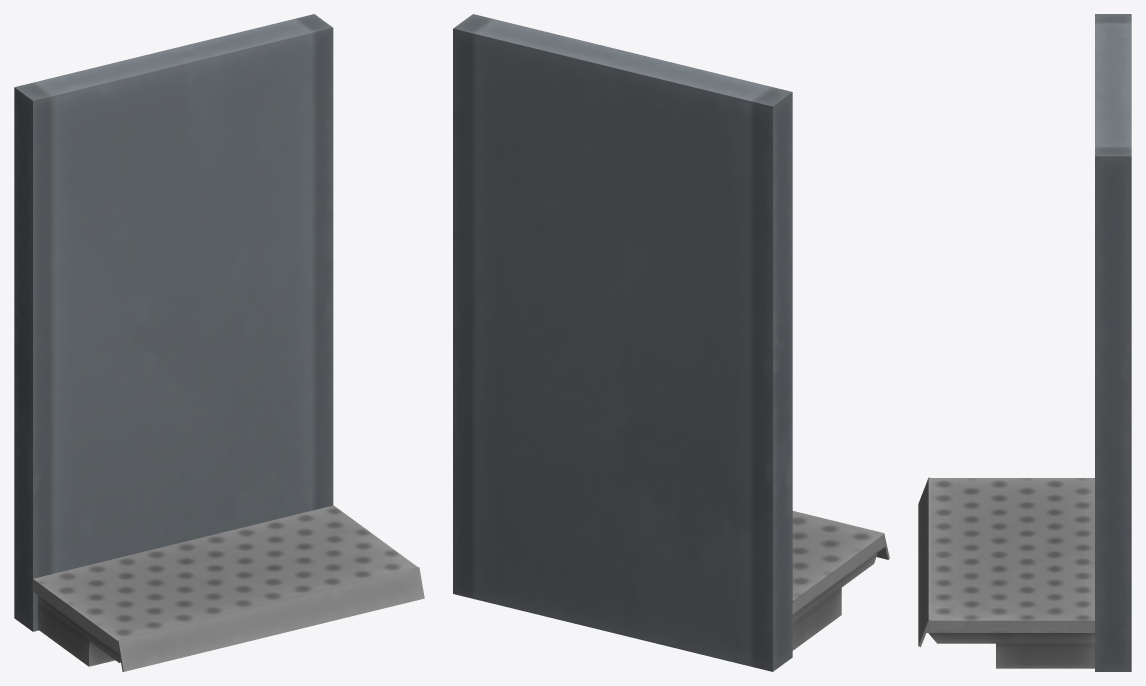
Rendered from Pfb_Shop_Shelf.fbx.
3 views of the same model, side by side, from view 1: azimuth 30°, elevation 25°; view 2: azimuth 150°, elevation 25°; view 3: azimuth 270°, elevation 25° (orthographic). The views are drawn at different scales.
Visible parts, largest first — view 1: Mat_Shop_Shelf_01_1; view 2: Mat_Shop_Shelf_01_1; view 3: Mat_Shop_Shelf_01_1.
Part boxes in pixels (<box>): Mat_Shop_Shelf_01_1: <box>14,14,424,671</box>; Mat_Shop_Shelf_01_1: <box>453,14,889,671</box>; Mat_Shop_Shelf_01_1: <box>918,14,1131,671</box>.
Bounding box in the file's own units: 0.9984 × 1.68 × 0.6305.
1 material, 1 textured.
